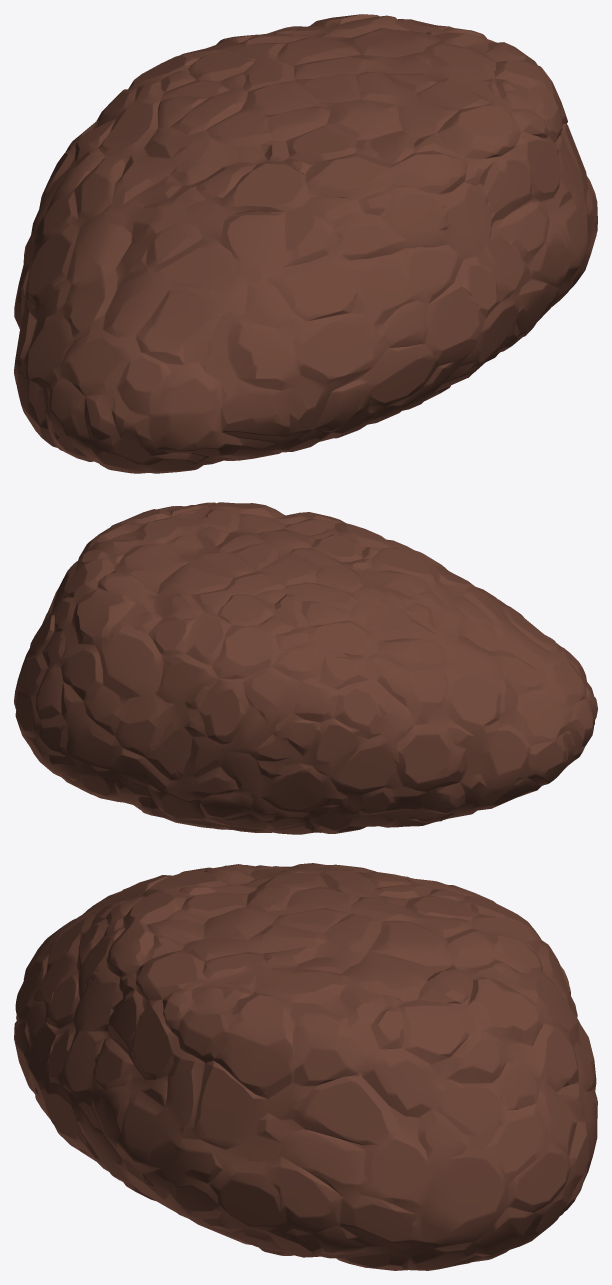
Rendered from Rock.fbx.
3 views of the same model, one above another, from view 1: azimuth 30°, elevation 25°; view 2: azimuth 150°, elevation 25°; view 3: azimuth 270°, elevation 25° (orthographic). The views are drawn at different scales.
Parts seen in each view (by area): view 1: Cube; view 2: Cube; view 3: Cube.
Part boxes in pixels (x1,y1,x2,y2): Cube: [14, 14, 597, 473]; Cube: [14, 502, 597, 834]; Cube: [14, 863, 597, 1270].
Bounding box in the file's own units: 656 × 312 × 537.
